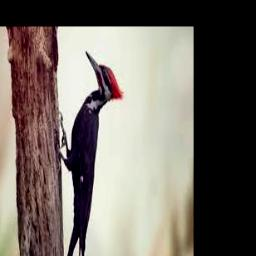Woodpecker: (58, 50, 123, 256)
